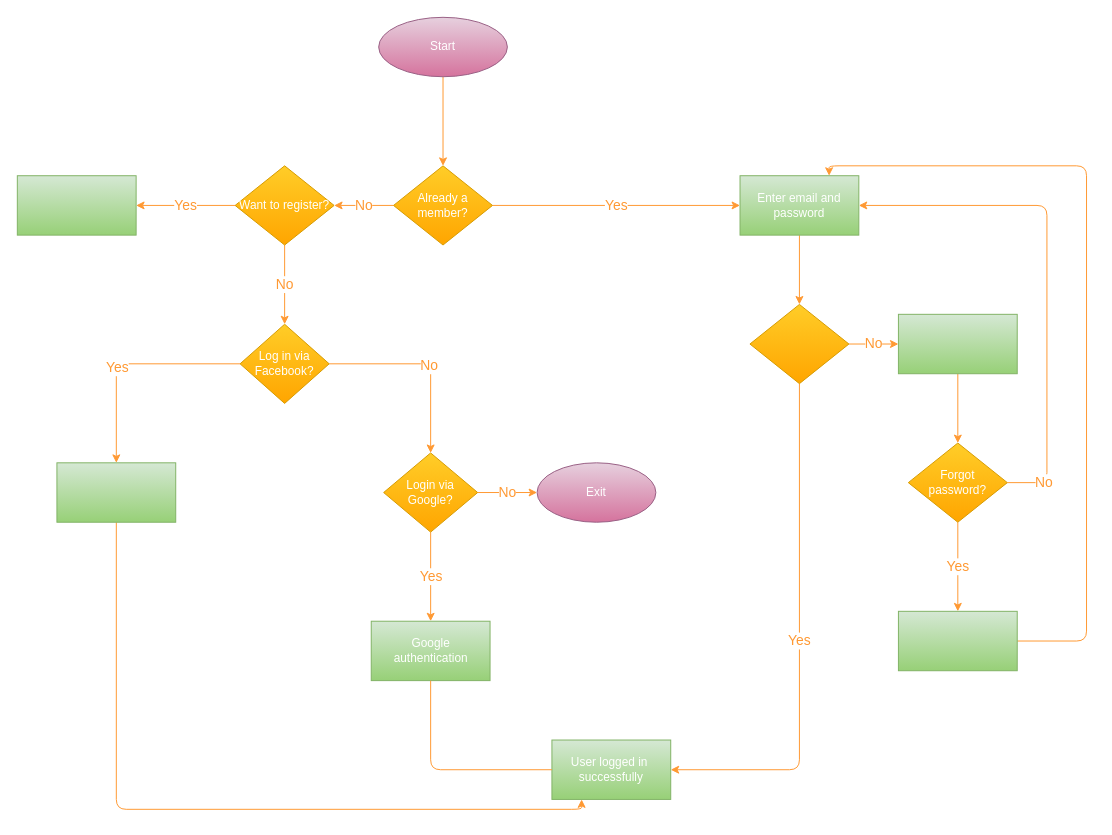
Some shapes in this 1112 by 835 pixel diagram are drawn without their labels. Each missing label, with the centre of its shape:
Facebook authentication: (x=116, y=492)
Fill registration form: (x=76, y=205)
Login failed: (x=957, y=343)
Reset password: (x=957, y=640)
Valid user credentials?: (x=799, y=343)
